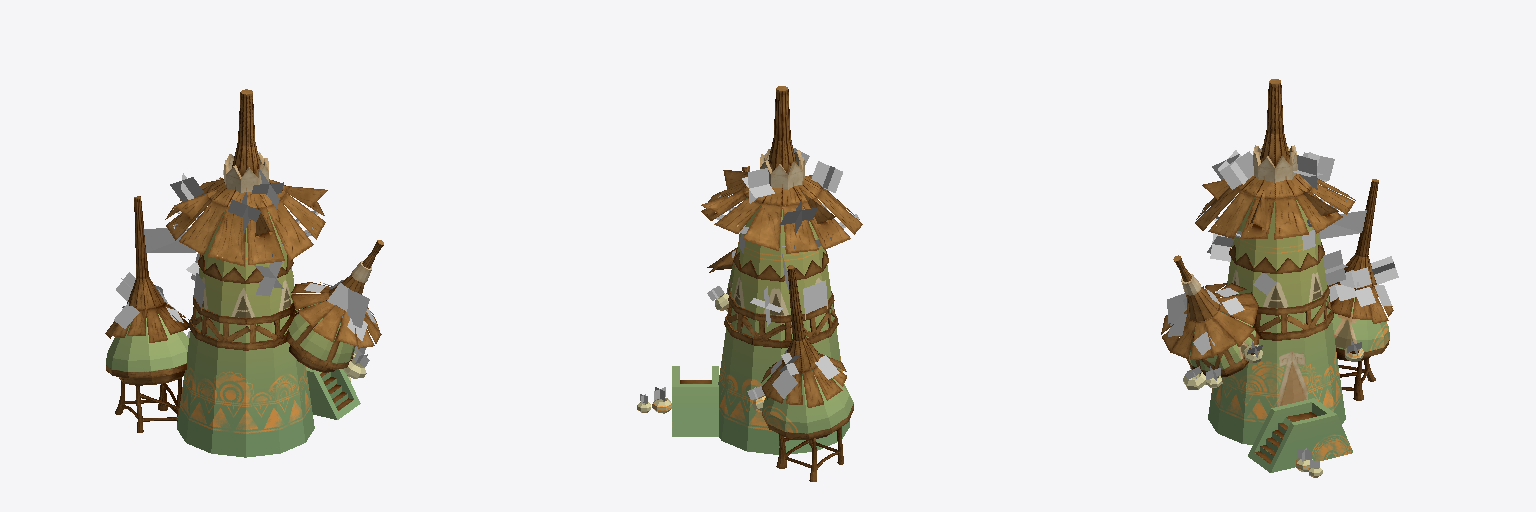
3 renders of one model, left to right at view 1: azimuth 30°, elevation 25°; view 2: azimuth 150°, elevation 25°; view 3: azimuth 270°, elevation 25°, orthographic.
Visible parts, largest first — view 1: Cylinder.010, Plane.049; view 2: Cylinder.010, Plane.049; view 3: Cylinder.010, Plane.049.
Boxes of the visible parts, x1=… form: Cylinder.010: x1=105, y1=89, x2=383, y2=457; Plane.049: x1=114, y1=170, x2=376, y2=375; Cylinder.010: x1=637, y1=86, x2=862, y2=481; Plane.049: x1=640, y1=148, x2=858, y2=403; Cylinder.010: x1=1161, y1=79, x2=1393, y2=477; Plane.049: x1=1167, y1=150, x2=1398, y2=467.
Size of the model in its own units: 6.12 by 8.8 by 5.63.
Materials: 2 (1 with a texture image).